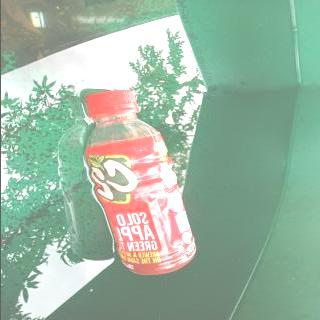bottle: (80, 88, 199, 276)
